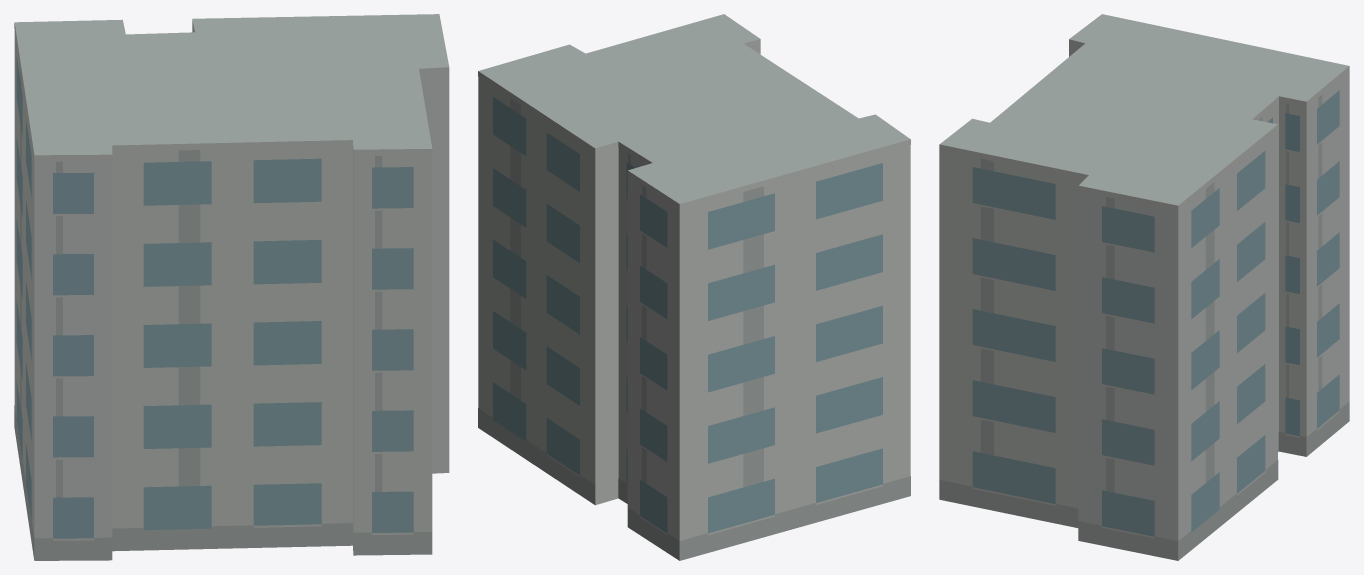
Rendered from survey-upis-32890422.glb.
The picture shows the model from 3 angles, left to right: view 1: azimuth 30°, elevation 25°; view 2: azimuth 150°, elevation 25°; view 3: azimuth 270°, elevation 25°; orthographic projection. The views are drawn at different scales.
Visible parts, largest first — view 1: survey-upis-32890422.tmp; view 2: survey-upis-32890422.tmp; view 3: survey-upis-32890422.tmp.
Boxes of the visible parts, bbox=[...] form: survey-upis-32890422.tmp: bbox=[14, 14, 449, 560]; survey-upis-32890422.tmp: bbox=[478, 14, 910, 560]; survey-upis-32890422.tmp: bbox=[939, 14, 1349, 560].
Size of the model in its own units: 17.65 by 15.25 by 15.96.
